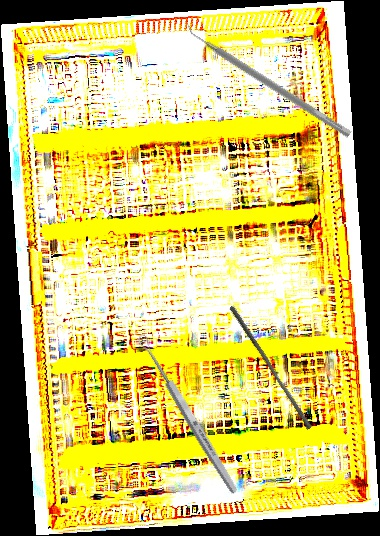Pusher: (224, 304, 317, 431)
Spatula Surgical: (179, 18, 357, 139)
Surgical Spoon: (135, 332, 241, 496)
